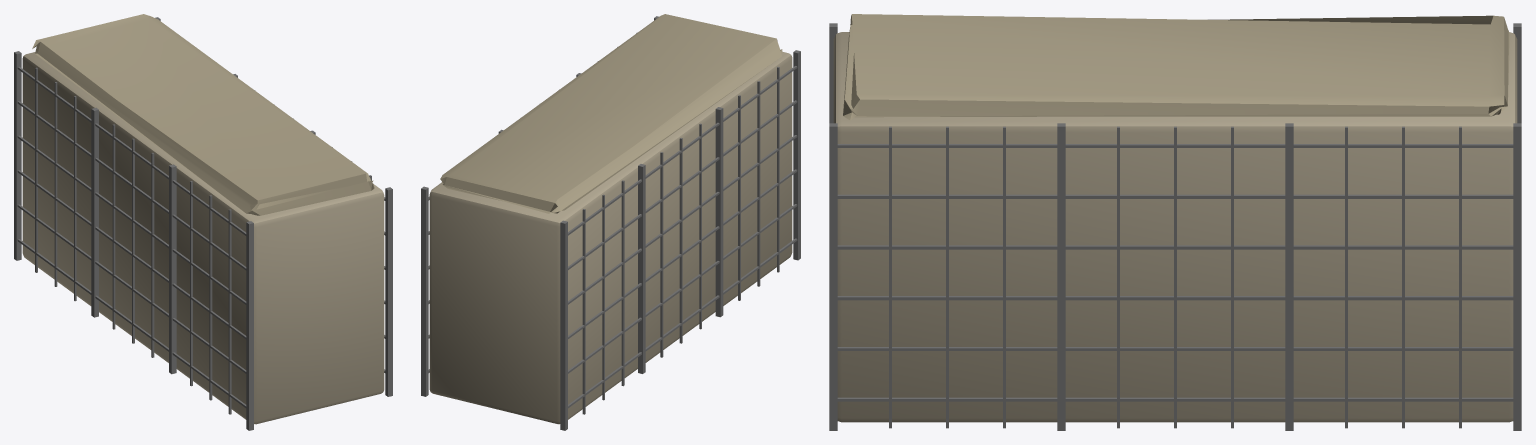
Rendered from ZR_Hesco.fbx.
3 views of the same model, side by side, from view 1: azimuth 30°, elevation 25°; view 2: azimuth 150°, elevation 25°; view 3: azimuth 270°, elevation 25° (orthographic). The views are drawn at different scales.
Parts seen in each view (by area): view 1: ZR_Hesco; view 2: ZR_Hesco; view 3: ZR_Hesco.
Part boxes in pixels (box(x1,y1,x2,y2)): ZR_Hesco: box(14, 14, 392, 430); ZR_Hesco: box(421, 14, 800, 430); ZR_Hesco: box(829, 14, 1521, 430).
Bounding box in the file's own units: 1.18 × 1.73 × 3.34.
